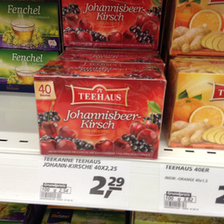tea: (34, 59, 165, 160), (60, 1, 162, 49), (167, 61, 224, 145)
